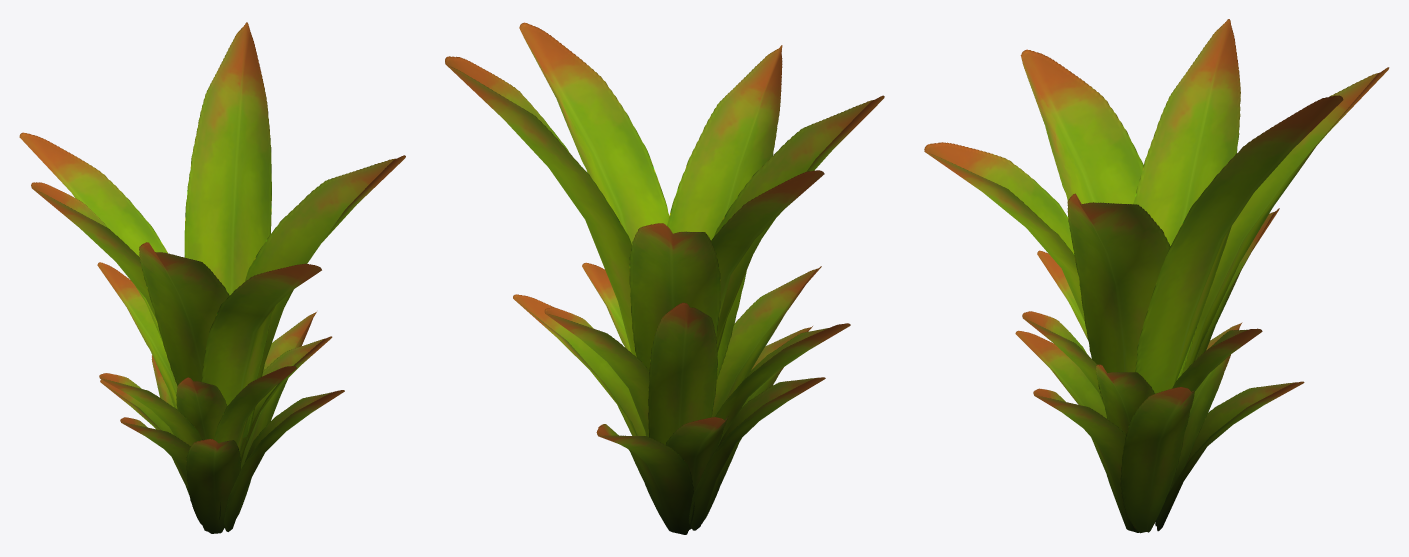
File: nature-plant-1-big.glb
3 renders of one model, left to right at view 1: azimuth 30°, elevation 25°; view 2: azimuth 150°, elevation 25°; view 3: azimuth 270°, elevation 25°, orthographic. The views are drawn at different scales.
Parts seen in each view (by area): view 1: Plant_1_Big; view 2: Plant_1_Big; view 3: Plant_1_Big.
Boxes of the visible parts, box(x1,y1,x2,y2) form: Plant_1_Big: box(19, 22, 405, 533); Plant_1_Big: box(445, 22, 884, 534); Plant_1_Big: box(924, 19, 1389, 533).
Size of the model in its own units: 1.81 by 2.35 by 1.95.
1 material, 1 textured.
